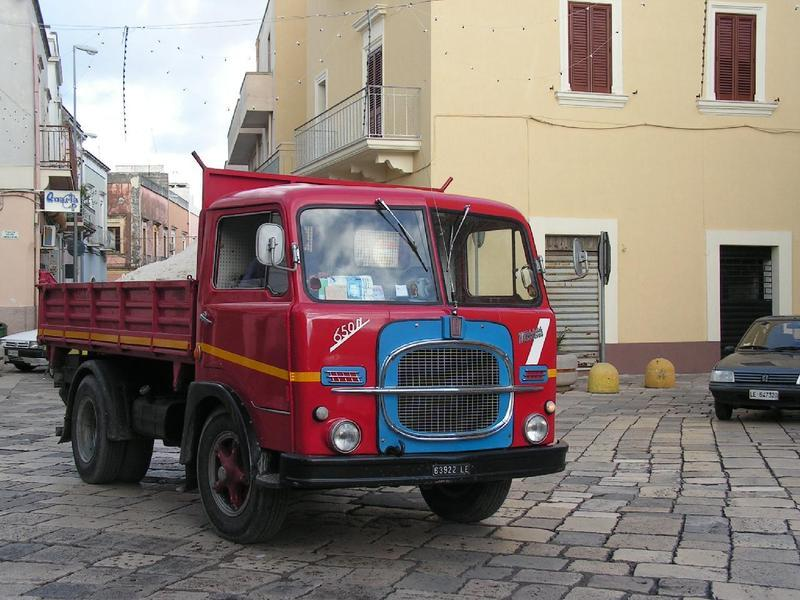truck: (36, 150, 571, 546)
